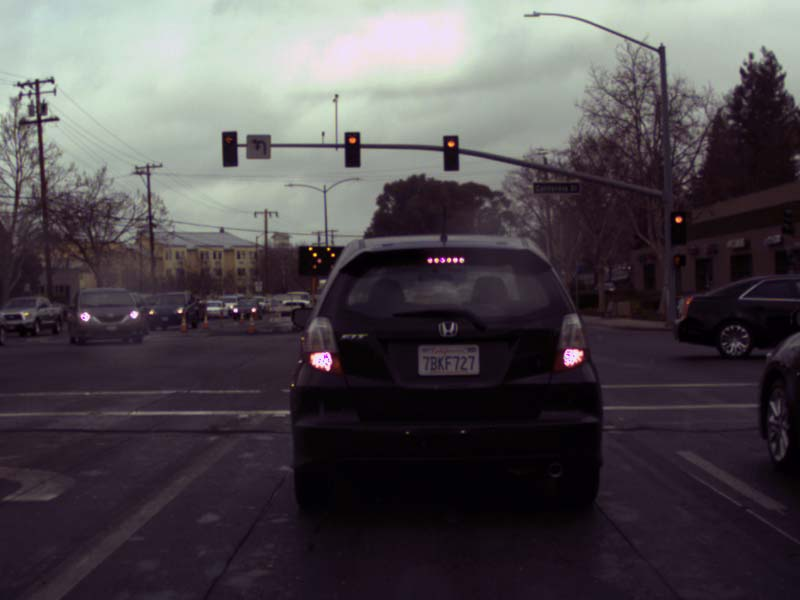Red: (222, 132, 237, 165), (345, 132, 359, 166), (443, 136, 457, 170), (671, 211, 683, 244)
